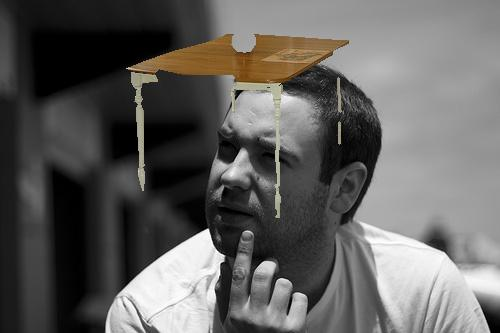tampered: (127, 35, 349, 218)
